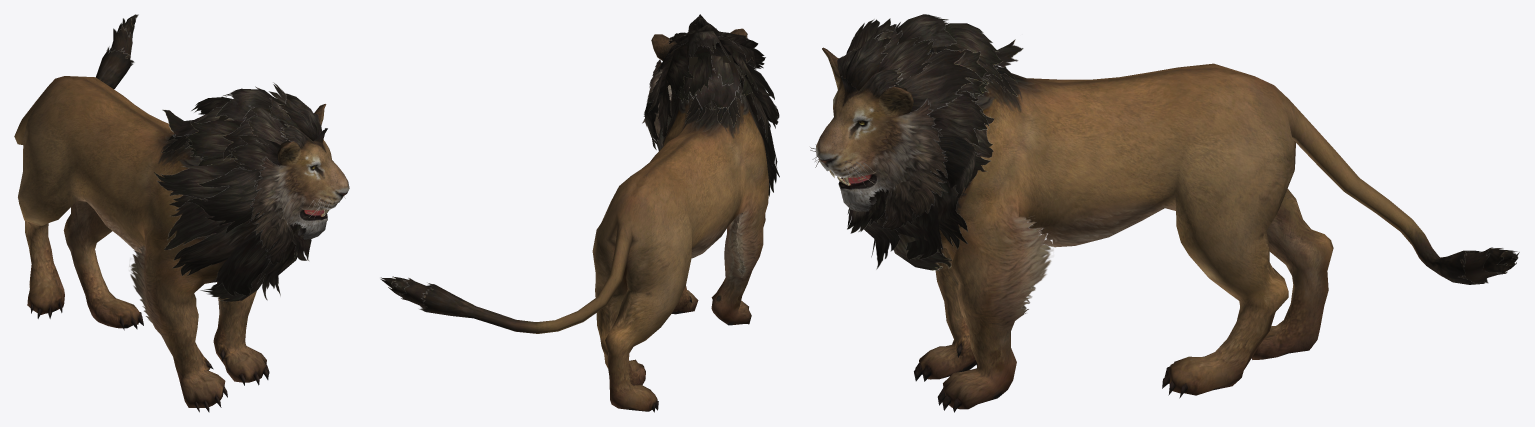
3 views of the same model, side by side, from view 1: azimuth 30°, elevation 25°; view 2: azimuth 150°, elevation 25°; view 3: azimuth 270°, elevation 25° (orthographic). The views are drawn at different scales.
Visible parts, largest first — view 1: Model001_25_lion_0.25_0_0_Model001_Material001_0; view 2: Model001_25_lion_0.25_0_0_Model001_Material001_0; view 3: Model001_25_lion_0.25_0_0_Model001_Material001_0.
Part boxes in pixels (box(x1,y1,x2,y2)): Model001_25_lion_0.25_0_0_Model001_Material001_0: box(14, 14, 349, 412); Model001_25_lion_0.25_0_0_Model001_Material001_0: box(380, 14, 779, 412); Model001_25_lion_0.25_0_0_Model001_Material001_0: box(810, 14, 1519, 412).
Size of the model in its own units: 108 by 143 by 237.
1 material, 1 textured.
